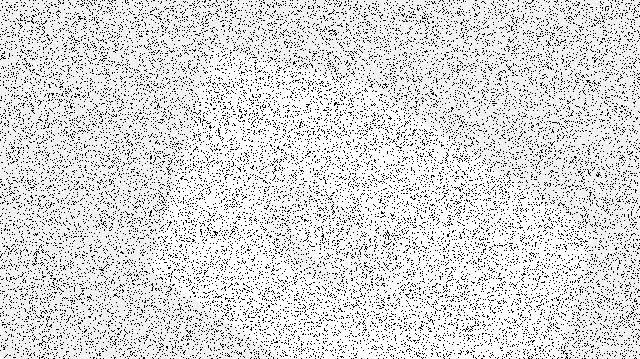pot: (262, 178, 372, 289)
